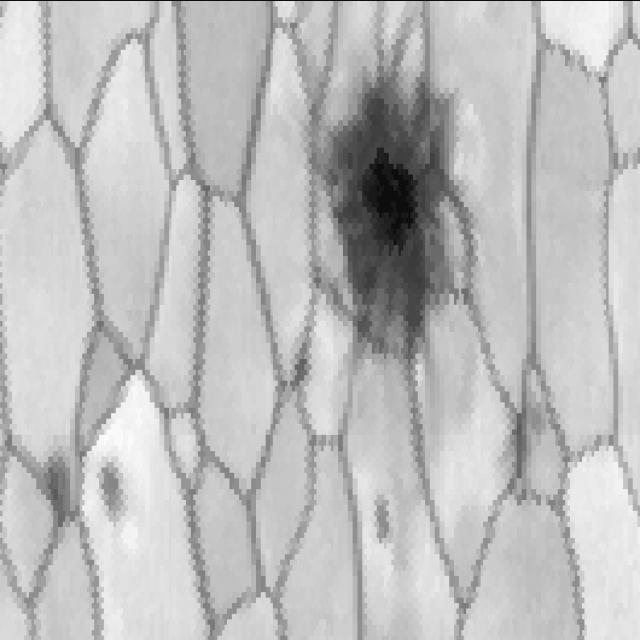good_void: (314, 57, 468, 365), (489, 365, 547, 507), (35, 423, 78, 553), (90, 429, 135, 533), (279, 330, 313, 412), (365, 483, 394, 567)
